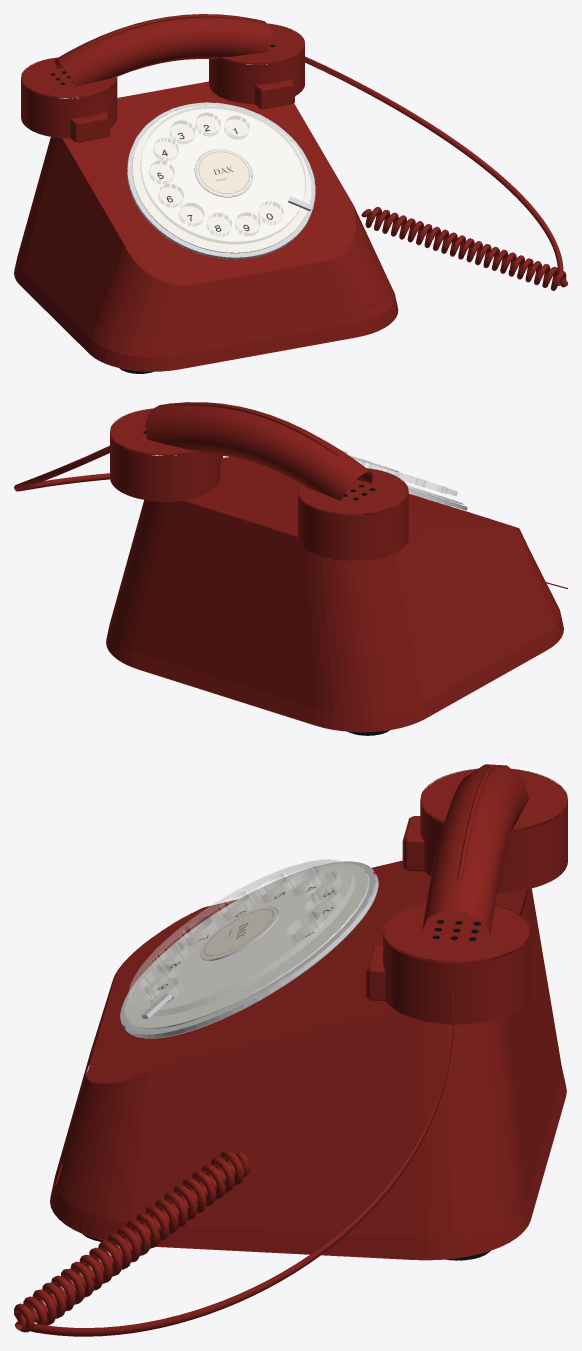
File: phone-source.glb
3 renders of one model, top to bottom at view 1: azimuth 30°, elevation 25°; view 2: azimuth 150°, elevation 25°; view 3: azimuth 270°, elevation 25°, orthographic. The views are drawn at different scales.
Visible parts, largest first — view 1: Prop_RotaryTelephone.Body, Prop_RotaryTelephone.NumberPlate, Prop_RotaryTelephone.FingerWheel, Prop_RotaryTelephone.HandsetHandle, Prop_RotaryTelephone.HandsetCup_0, Prop_RotaryTelephone.HandsetCup_1, Prop_RotaryTelephone.CoiledCord, Prop_RotaryTelephone.DialBezel, Phone_FlexibleLead, Phone_CenterLabel, Prop_RotaryTelephone.ProngBrass_1, Prop_RotaryTelephone.ProngBrass_0 (+1 smaller); view 2: Prop_RotaryTelephone.Body, Prop_RotaryTelephone.HandsetHandle, Prop_RotaryTelephone.HandsetCup_0, Prop_RotaryTelephone.HandsetCup_1, Phone_FlexibleLead, Prop_RotaryTelephone.HandsetBrassStripe, Prop_RotaryTelephone.FingerWheel; view 3: Prop_RotaryTelephone.Body, Prop_RotaryTelephone.NumberPlate, Prop_RotaryTelephone.FingerWheel, Prop_RotaryTelephone.HandsetCup_1, Prop_RotaryTelephone.HandsetHandle, Prop_RotaryTelephone.CoiledCord, Prop_RotaryTelephone.HandsetCup_0, Phone_FlexibleLead, Prop_RotaryTelephone.DialBezel, Phone_CenterLabel, Prop_RotaryTelephone.CradleProng_0, Prop_RotaryTelephone.CradleProng_1.
Part boxes in pixels (box(x1,y1,x2,y2)): Prop_RotaryTelephone.Body: box(14, 81, 398, 371); Prop_RotaryTelephone.NumberPlate: box(132, 105, 311, 253); Prop_RotaryTelephone.FingerWheel: box(140, 106, 305, 243); Prop_RotaryTelephone.HandsetHandle: box(54, 14, 271, 86); Prop_RotaryTelephone.HandsetCup_0: box(21, 58, 117, 138); Prop_RotaryTelephone.HandsetCup_1: box(209, 24, 304, 104); Prop_RotaryTelephone.CoiledCord: box(361, 207, 567, 290); Prop_RotaryTelephone.DialBezel: box(127, 102, 315, 259); Phone_FlexibleLead: box(293, 53, 563, 285); Phone_CenterLabel: box(196, 150, 251, 195); Prop_RotaryTelephone.ProngBrass_1: box(261, 85, 294, 108); Prop_RotaryTelephone.ProngBrass_0: box(76, 118, 109, 141); Prop_RotaryTelephone.Body: box(106, 457, 563, 732); Prop_RotaryTelephone.HandsetHandle: box(145, 402, 373, 500); Prop_RotaryTelephone.HandsetCup_0: box(298, 469, 408, 561); Prop_RotaryTelephone.HandsetCup_1: box(110, 409, 220, 501); Phone_FlexibleLead: box(14, 444, 122, 491); Prop_RotaryTelephone.HandsetBrassStripe: box(178, 402, 340, 456); Prop_RotaryTelephone.FingerWheel: box(353, 458, 457, 496); Prop_RotaryTelephone.Body: box(50, 860, 566, 1260); Prop_RotaryTelephone.NumberPlate: box(125, 863, 369, 1029); Prop_RotaryTelephone.FingerWheel: box(128, 859, 355, 1016); Prop_RotaryTelephone.HandsetCup_1: box(383, 903, 530, 1024); Prop_RotaryTelephone.HandsetHandle: box(422, 764, 528, 934); Prop_RotaryTelephone.CoiledCord: box(14, 1150, 250, 1332); Prop_RotaryTelephone.HandsetCup_0: box(420, 770, 567, 892); Phone_FlexibleLead: box(31, 992, 454, 1336); Prop_RotaryTelephone.DialBezel: box(120, 861, 378, 1038); Phone_CenterLabel: box(201, 907, 276, 957); Prop_RotaryTelephone.CradleProng_0: box(404, 816, 437, 871); Prop_RotaryTelephone.CradleProng_1: box(367, 945, 400, 1001).
Size of the model in its own units: 0.2918 by 0.1496 by 0.2043.
6 materials, 2 textured.
